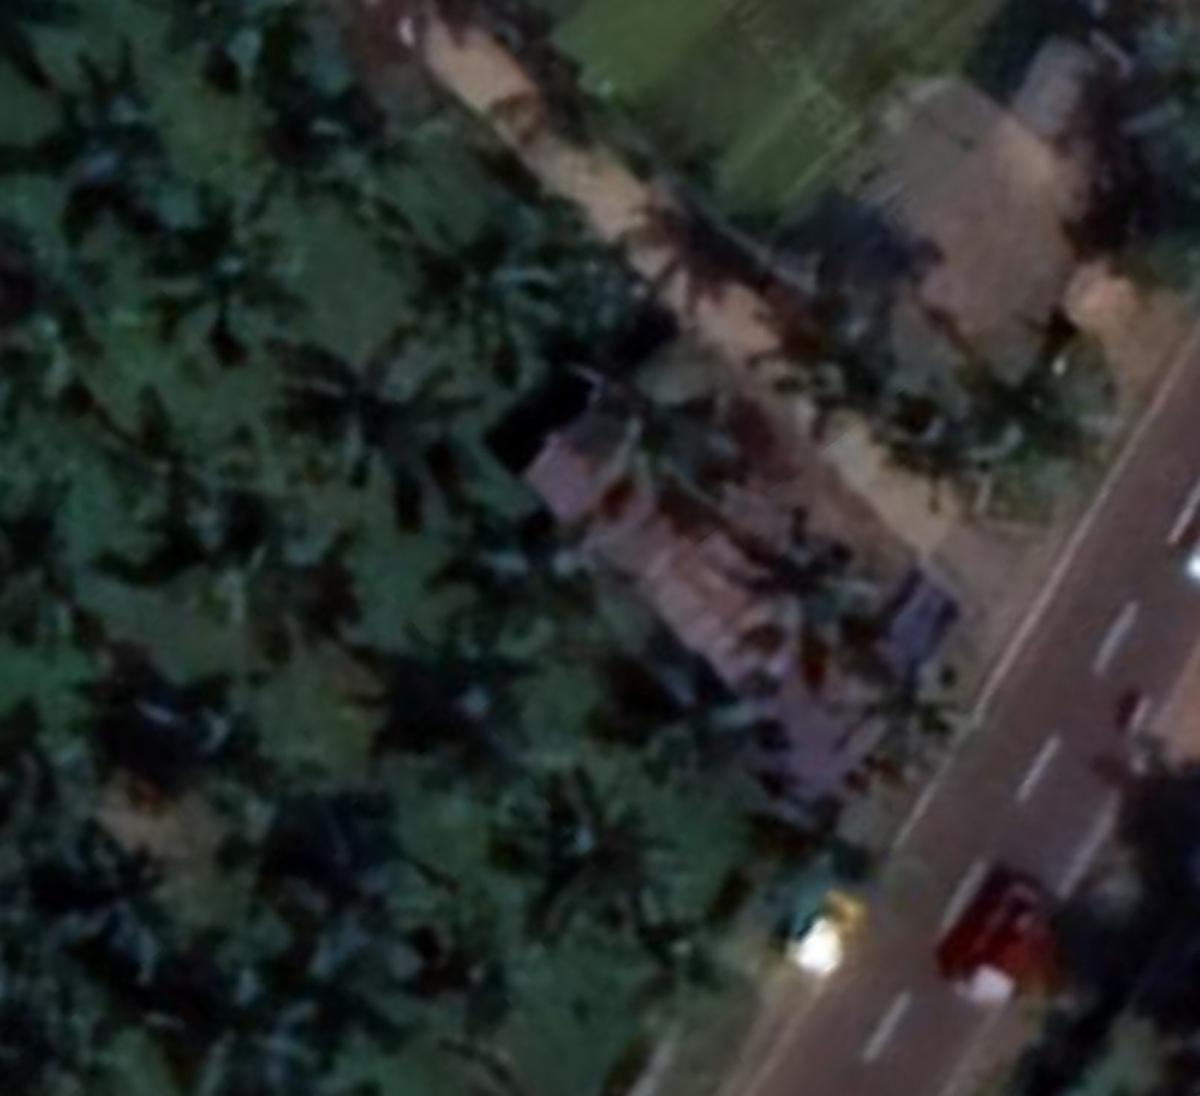coconut: (293, 311, 471, 505), (512, 757, 678, 952), (147, 174, 311, 356), (190, 486, 360, 660), (563, 353, 740, 511), (415, 204, 559, 380), (96, 387, 248, 553), (752, 502, 882, 666), (19, 259, 158, 405), (411, 617, 570, 741), (162, 964, 305, 1085)
